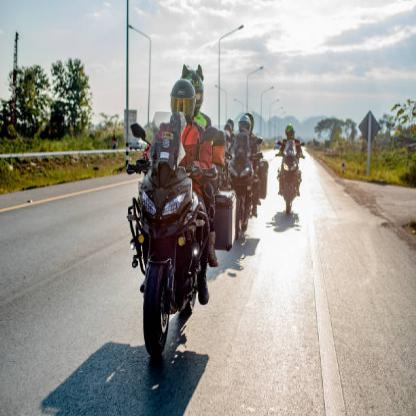Motorcycle: (125, 137, 208, 387), (271, 137, 306, 216)
